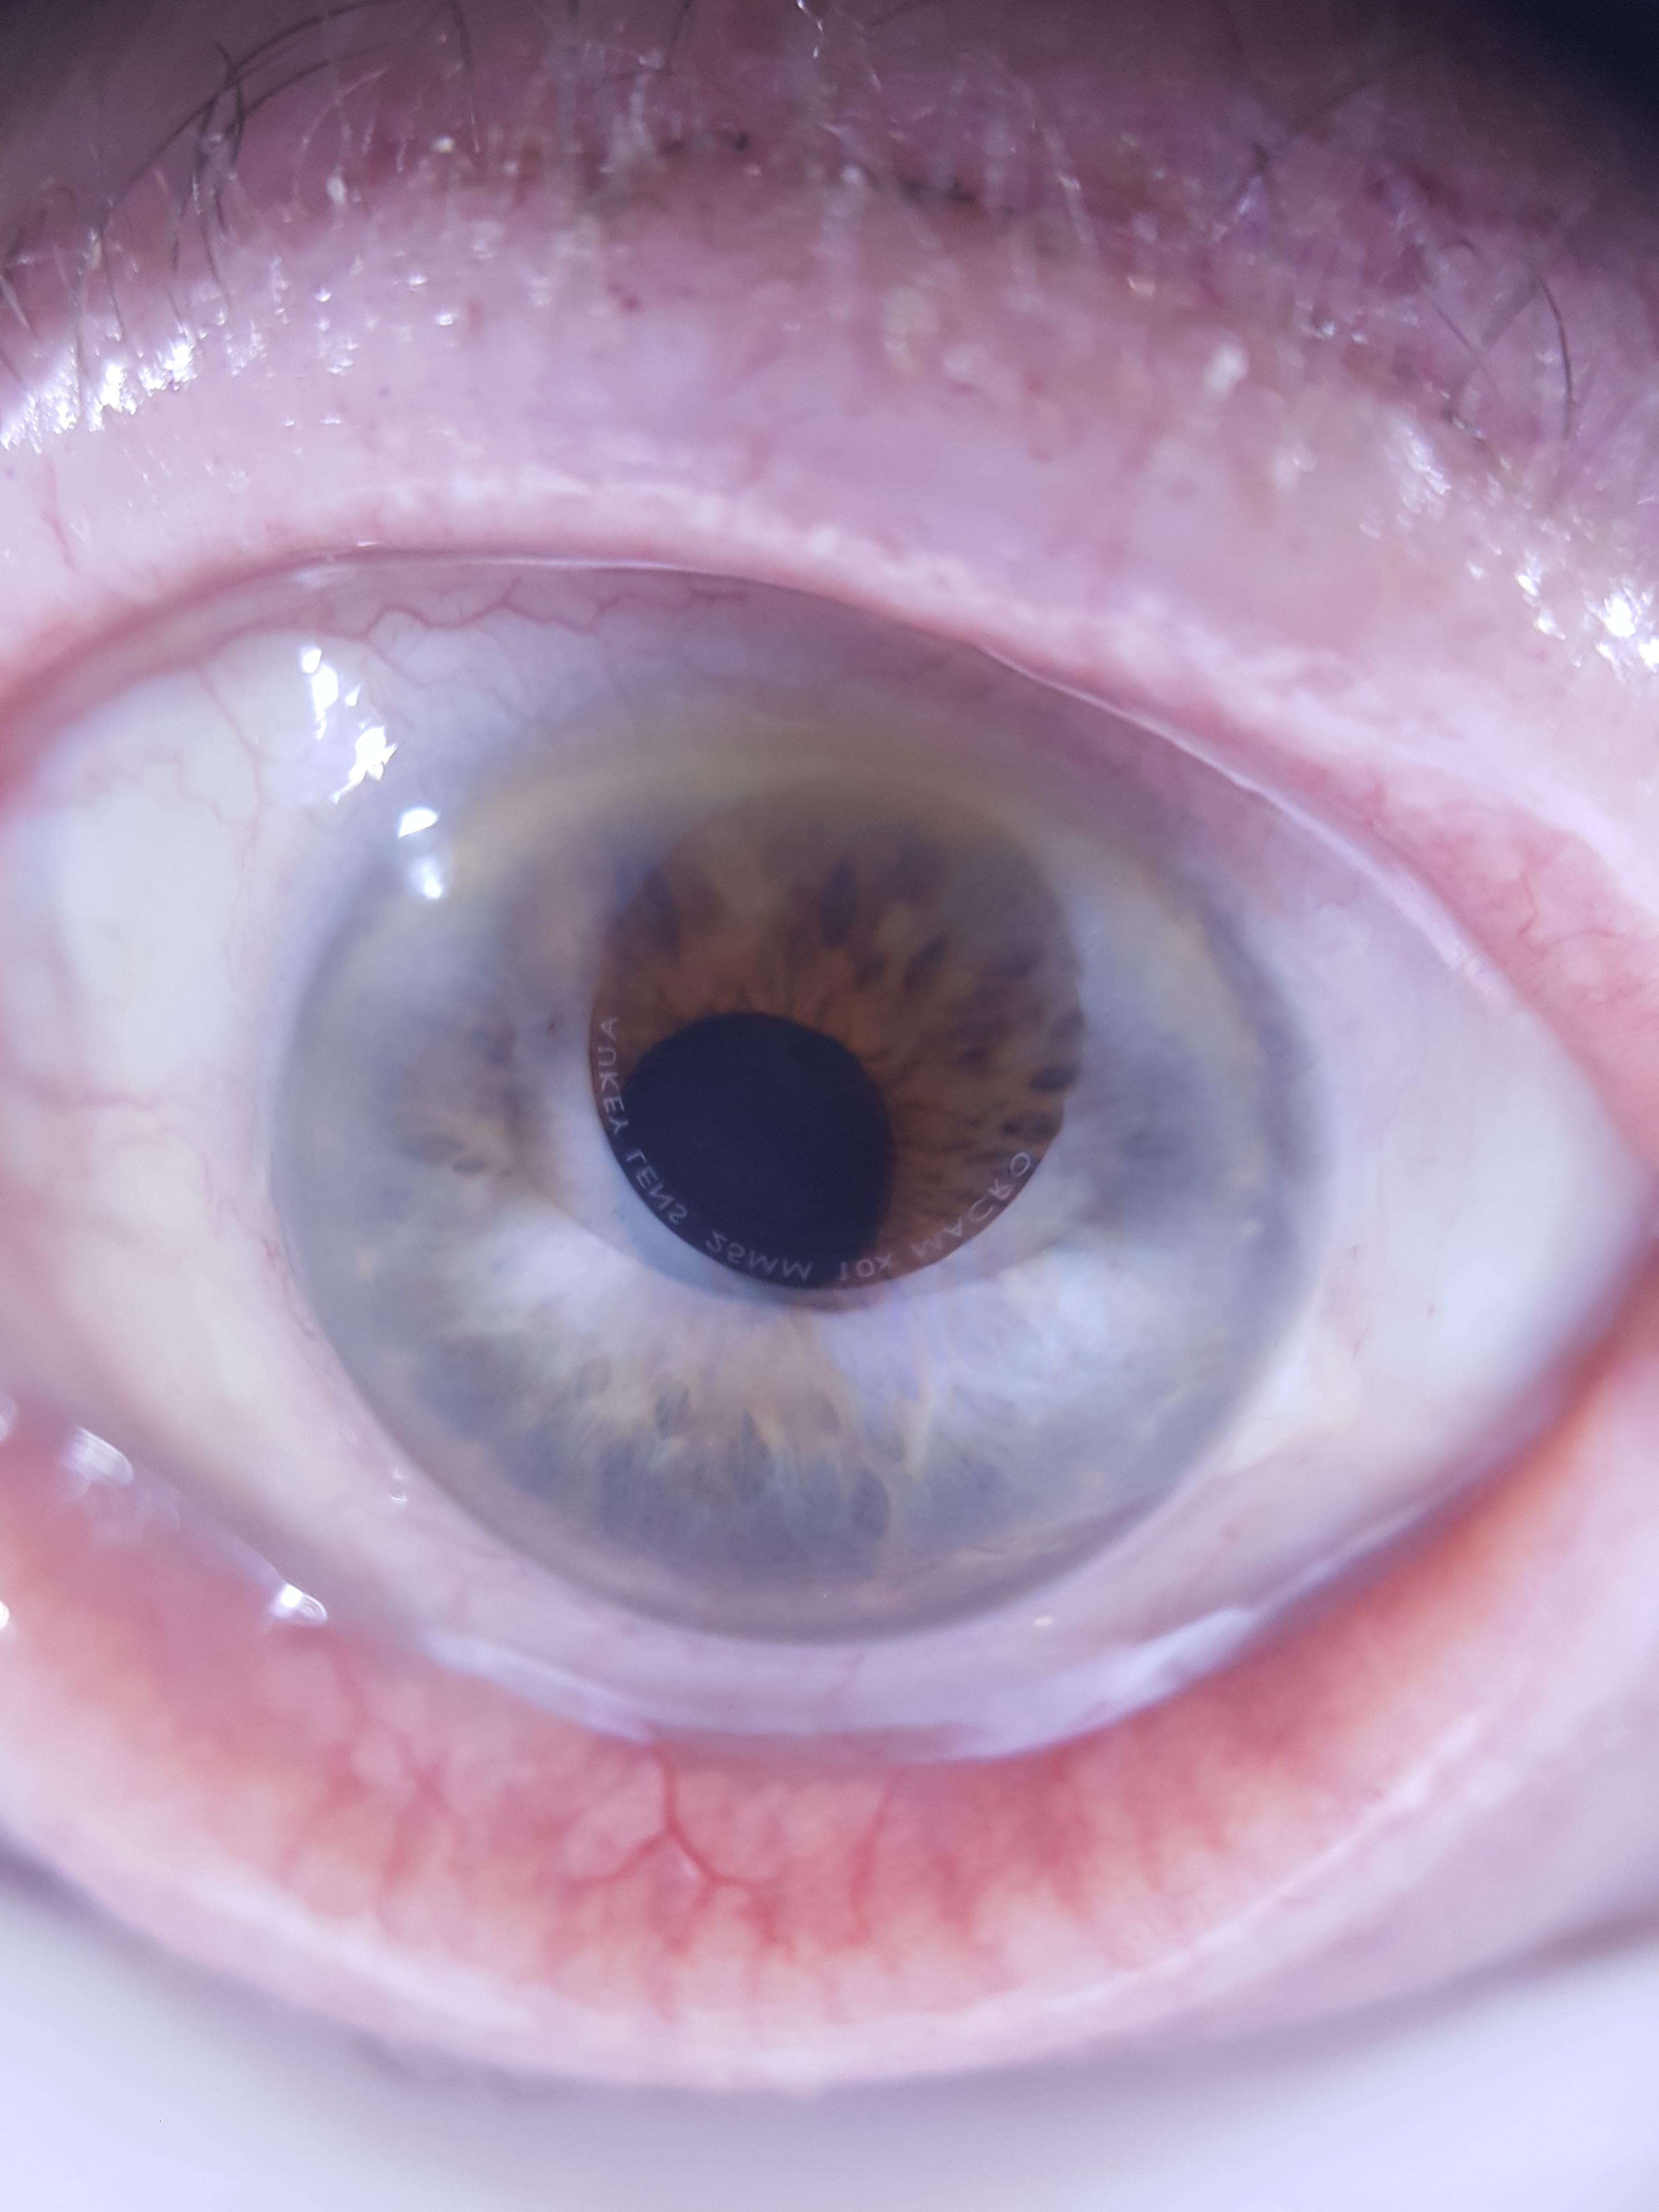palpebral: (14, 1374, 1601, 2013)
